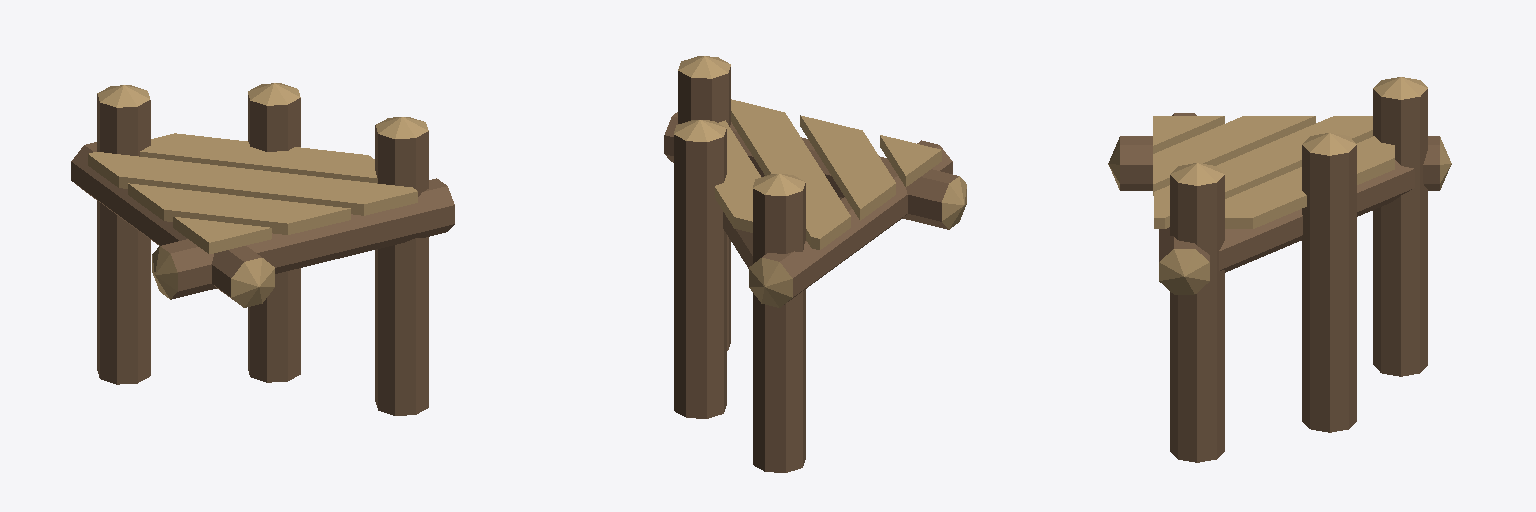
The model's file is Beach_Prop_Docks_Corner.obj.
3 renders of one model, left to right at view 1: azimuth 30°, elevation 25°; view 2: azimuth 150°, elevation 25°; view 3: azimuth 270°, elevation 25°, orthographic.
Parts seen in each view (by area): view 1: object9, object5, object10, object2, object6, object4, object1, object8, object7; view 2: object6, object5, object2, object4, object1, object10, object9, object8, object7, object3; view 3: object6, object9, object5, object2, object1, object3, object8, object4, object10, object7.
Boxes of the visible parts, x1,y1,x2,y2 form: object9: [375, 117, 428, 415]; object5: [97, 85, 150, 384]; object10: [152, 178, 454, 299]; object2: [88, 152, 417, 215]; object6: [248, 83, 300, 382]; object4: [71, 142, 274, 307]; object1: [128, 183, 350, 234]; object8: [140, 133, 377, 183]; object7: [173, 217, 271, 253]; object6: [674, 120, 726, 418]; object5: [753, 174, 805, 472]; object2: [731, 99, 850, 249]; object4: [749, 140, 952, 307]; object1: [800, 115, 895, 220]; object10: [664, 112, 966, 229]; object9: [678, 56, 730, 350]; object8: [715, 120, 760, 232]; object7: [880, 135, 941, 186]; object3: [723, 212, 752, 268]; object6: [1302, 133, 1356, 432]; object9: [1170, 163, 1224, 462]; object5: [1373, 77, 1427, 376]; object2: [1154, 116, 1372, 228]; object1: [1153, 116, 1315, 195]; object3: [1219, 160, 1414, 272]; object8: [1225, 136, 1394, 228]; object4: [1108, 136, 1451, 190]; object10: [1159, 113, 1209, 294]; object7: [1153, 116, 1224, 153].
Bounding box in the file's own units: 1.35 × 1.25 × 1.35.